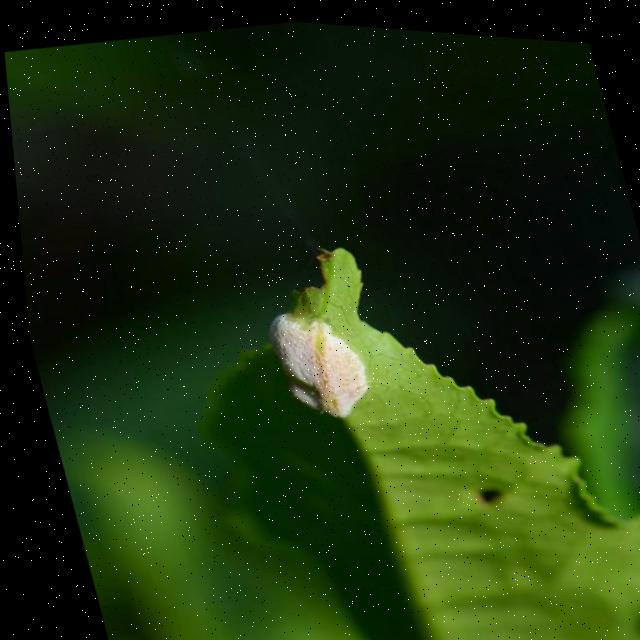Tea cake: (253, 301, 383, 429)
